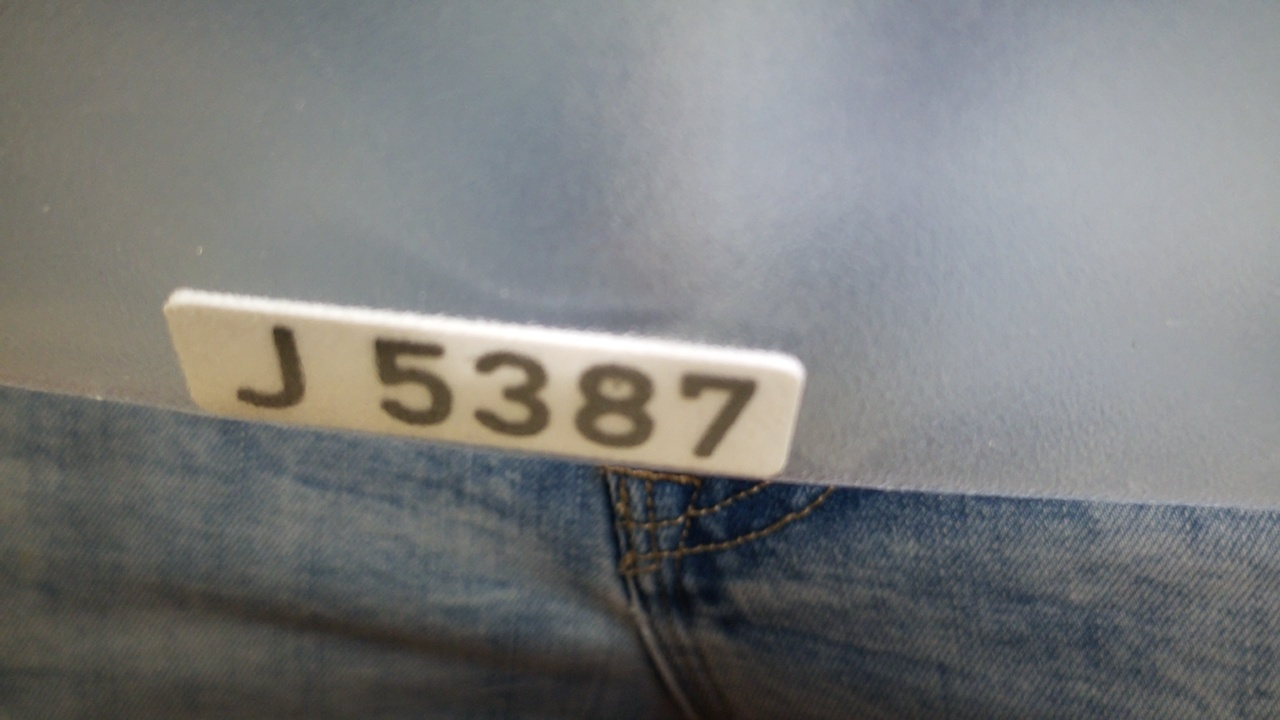license_plate: (158, 281, 809, 486)
